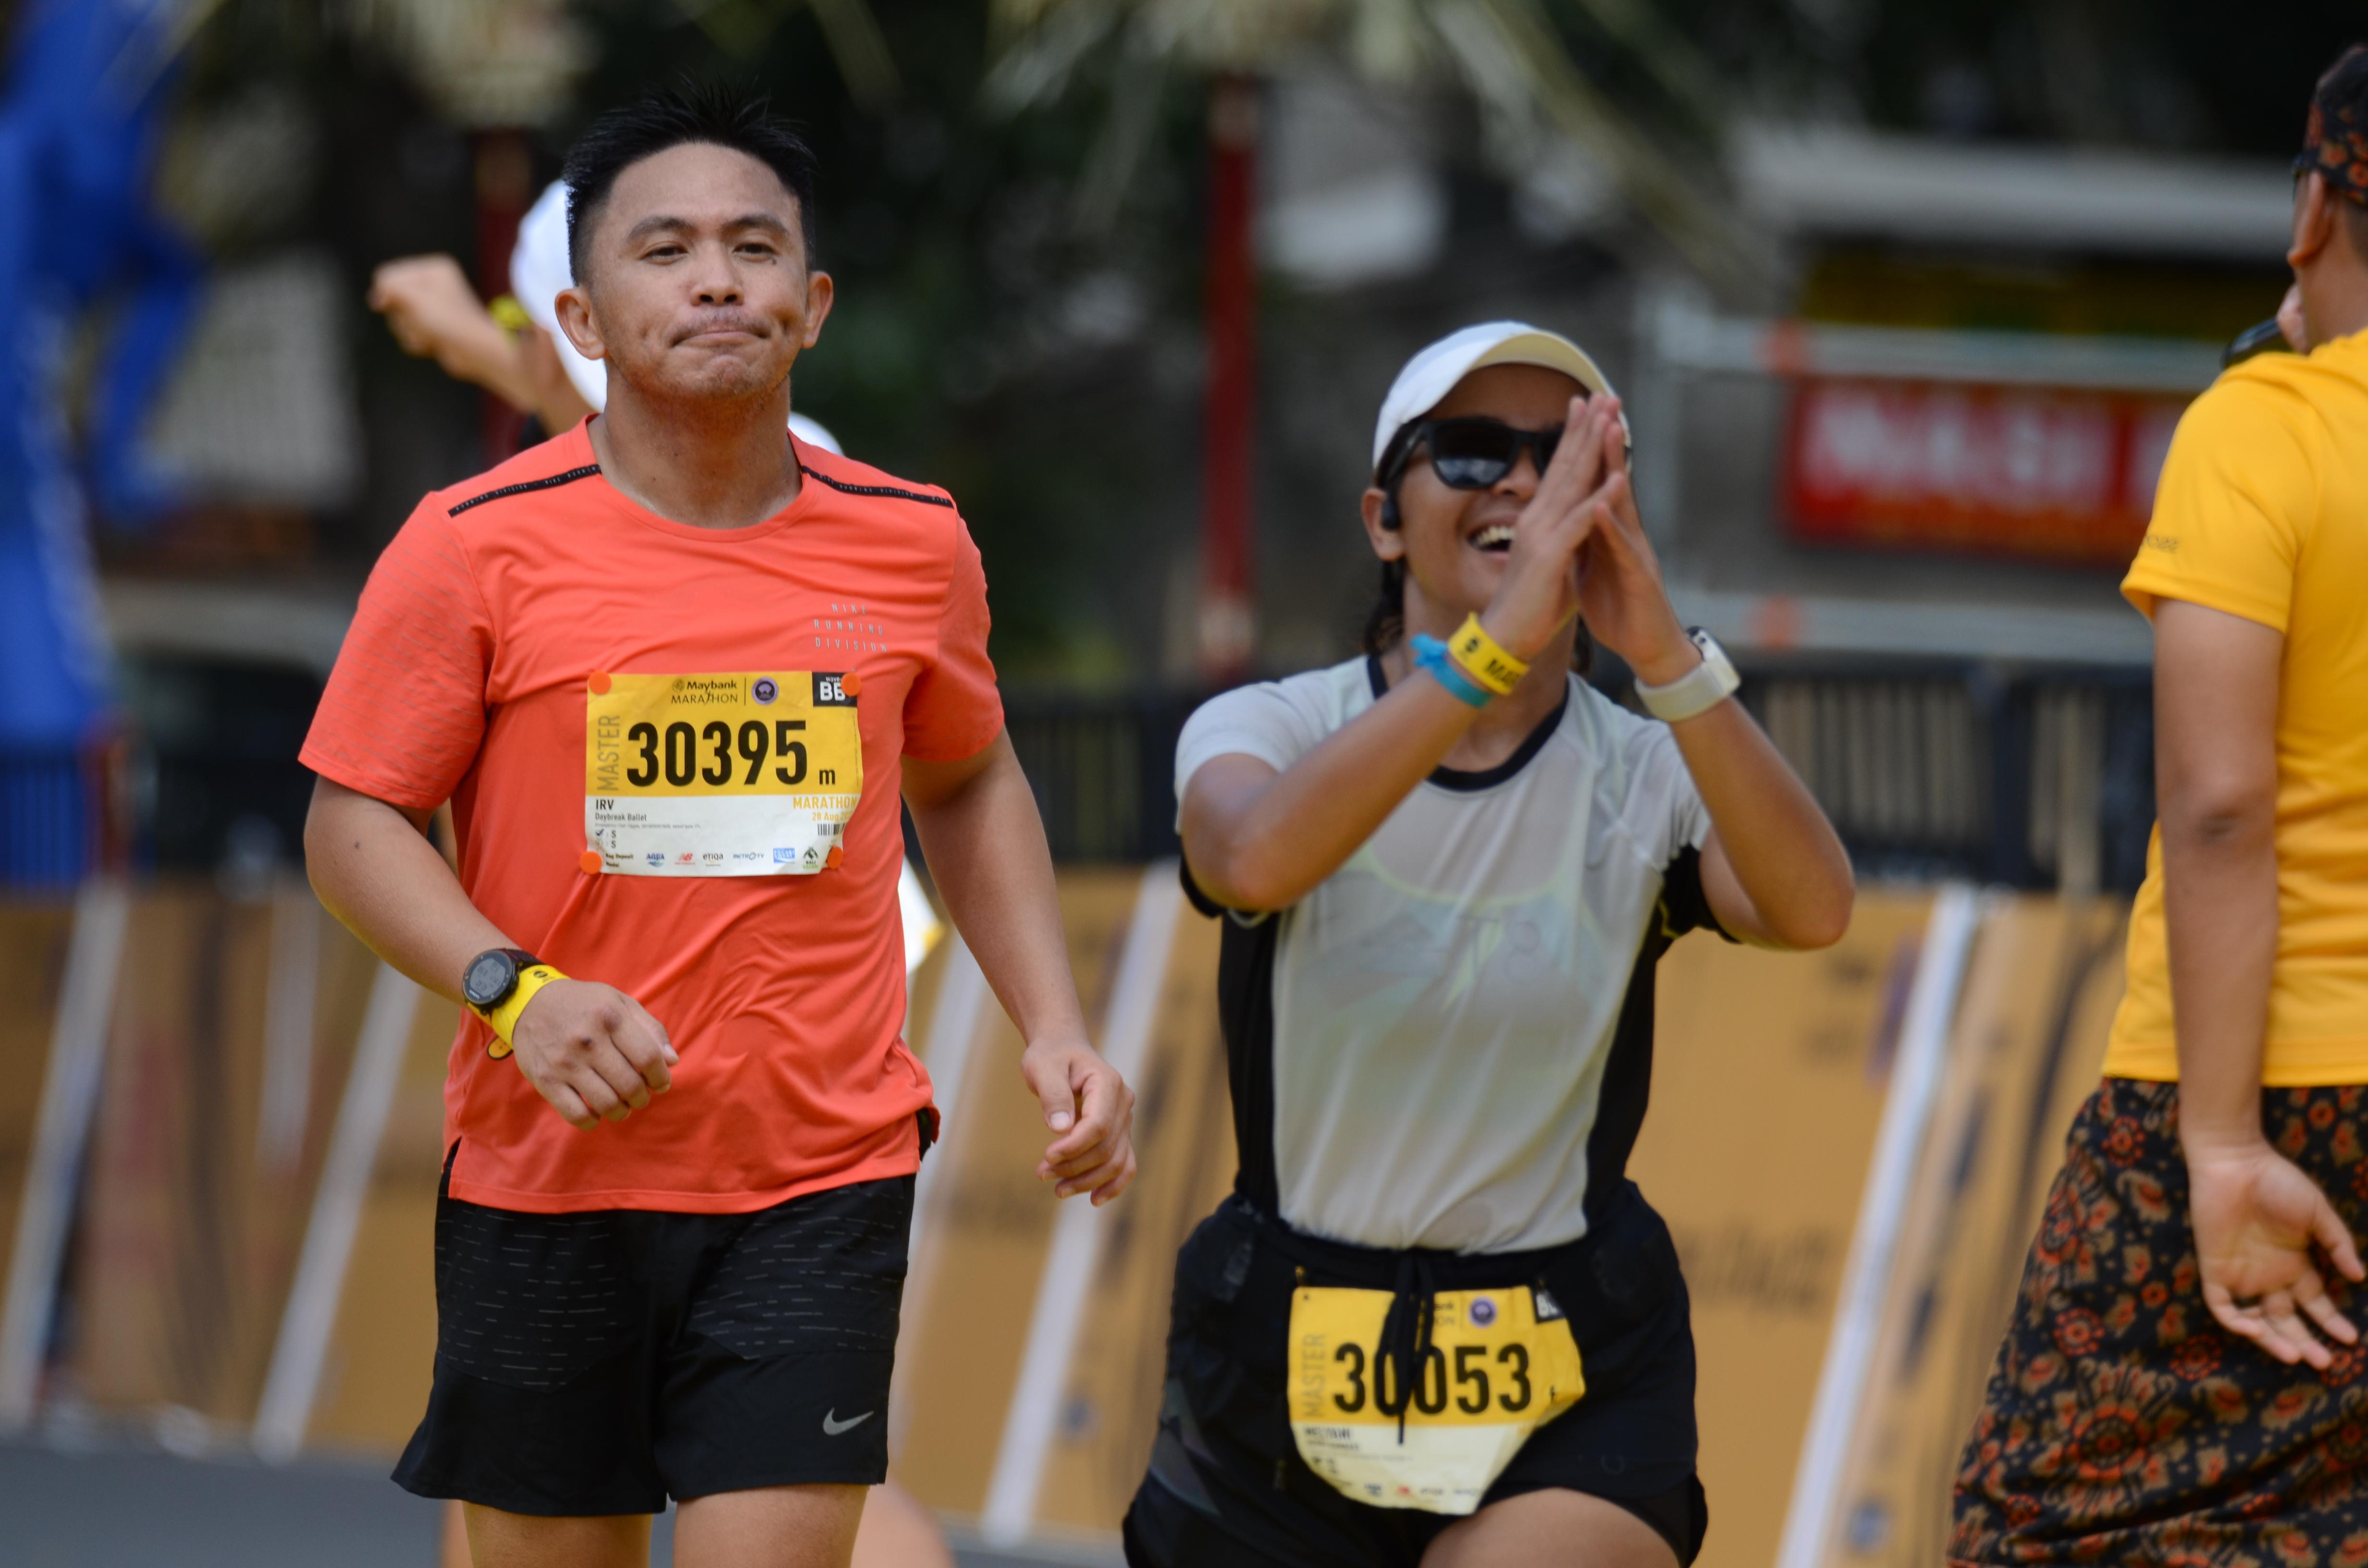bib: (1288, 1281, 1577, 1519), (586, 663, 865, 880)
